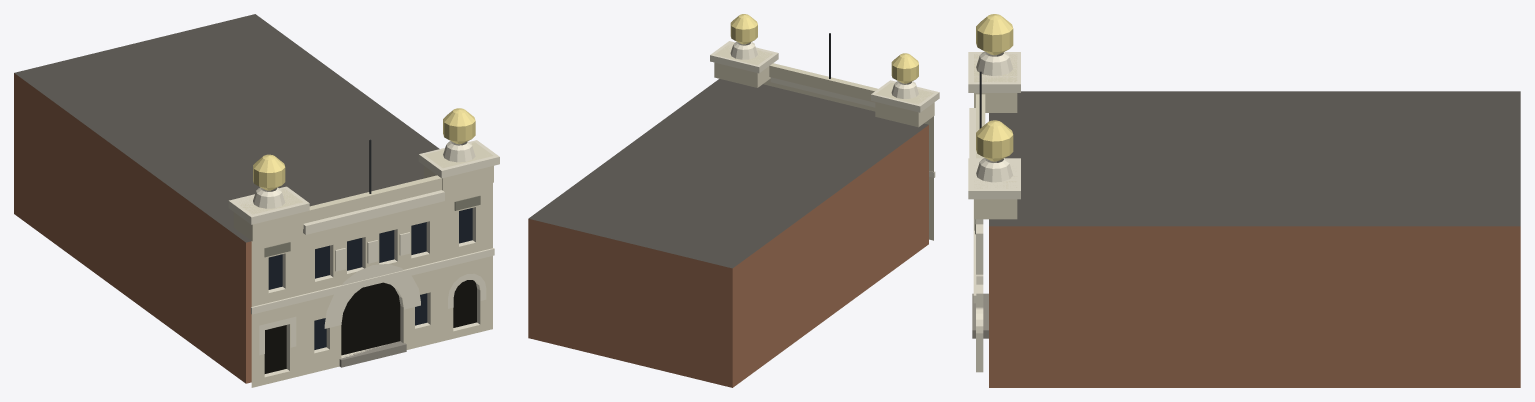
File: gem-theatre-1913.glb
3 renders of one model, left to right at view 1: azimuth 30°, elevation 25°; view 2: azimuth 150°, elevation 25°; view 3: azimuth 270°, elevation 25°, orthographic. The views are drawn at different scales.
Visible parts, largest first — view 1: gem_roof, gem_brick, gem_face, gem_tc, gem_shadow, gem_glass, gem_globe, gem_base, gem_lead; view 2: gem_brick, gem_roof, gem_face, gem_tc, gem_globe; view 3: gem_brick, gem_roof, gem_tc, gem_face, gem_globe.
Part boxes in pixels (<box>): gem_roof: <box>14,14,439,242</box>; gem_brick: <box>14,73,251,383</box>; gem_face: <box>233,142,493,387</box>; gem_tc: <box>228,140,499,377</box>; gem_shadow: <box>264,280,476,373</box>; gem_glass: <box>268,208,472,349</box>; gem_globe: <box>253,108,475,190</box>; gem_base: <box>339,341,406,367</box>; gem_lead: <box>264,195,480,257</box>; gem_brick: <box>528,125,928,387</box>; gem_roof: <box>529,79,928,268</box>; gem_face: <box>714,43,934,240</box>; gem_tc: <box>710,41,939,177</box>; gem_globe: <box>730,14,918,83</box>; gem_brick: <box>989,226,1520,387</box>; gem_roof: <box>989,91,1520,226</box>; gem_tc: <box>968,51,1020,372</box>; gem_face: <box>974,54,1017,219</box>; gem_globe: <box>976,14,1013,161</box>.
Size of the model in its own units: 17.5 by 14.8 by 29.4.
